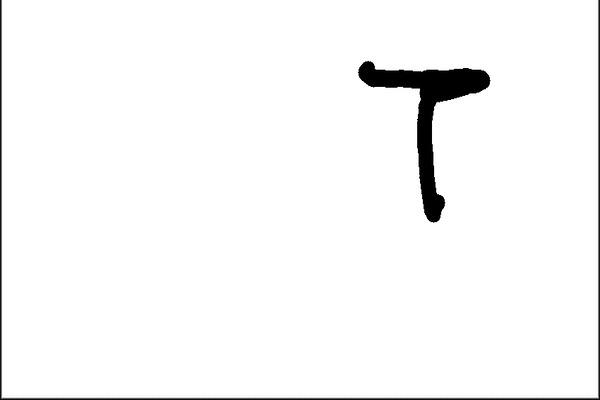T: (348, 53, 491, 226)
